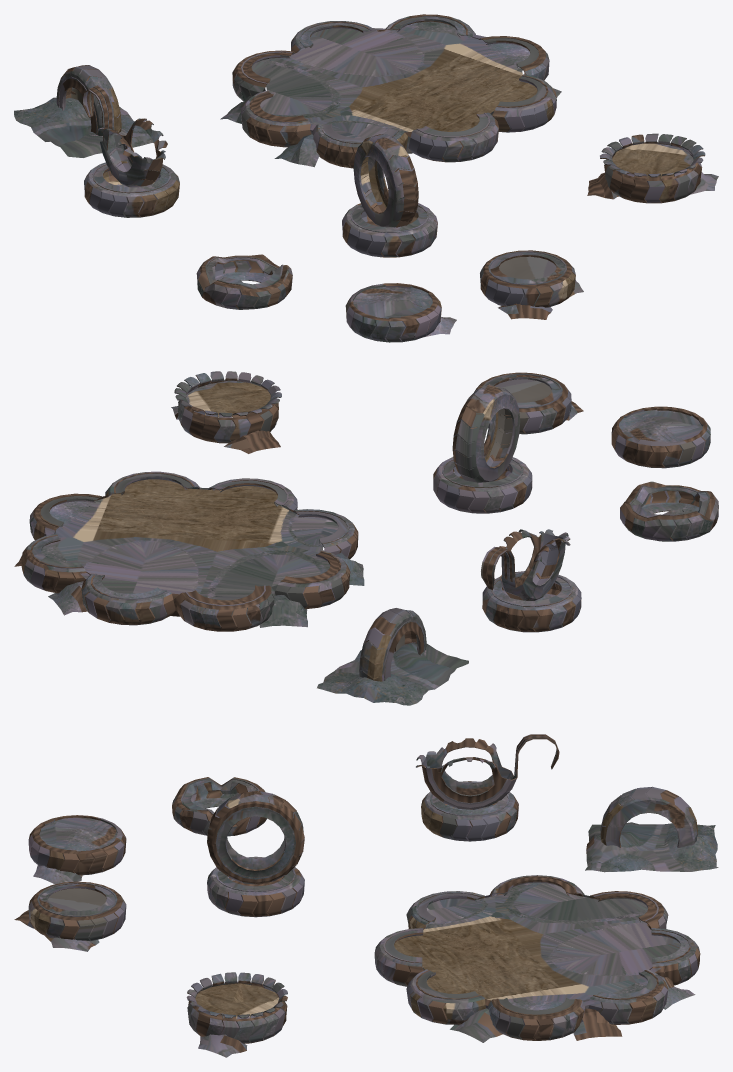
The model's file is КОЛЁСА.fbx.
3 views of the same model, one above another, from view 1: azimuth 30°, elevation 25°; view 2: azimuth 150°, elevation 25°; view 3: azimuth 270°, elevation 25° (orthographic). The views are drawn at different scales.
Parts seen in each view (by area): view 1: Окружность.008, Окружность.007, Окружность.002, Окружность.004, Окружность.003, Окружность.010, Окружность.006, Окружность.001; view 2: Окружность.008, Окружность.007, Окружность.003, Окружность.002, Окружность.004, Окружность.006, Окружность.001, Окружность.010; view 3: Окружность.008, Окружность.007, Окружность.003, Окружность.002, Окружность.004, Окружность.010, Окружность.006, Окружность.001.
Boxes of the visible parts, x1=… form: Окружность.008: x1=220, y1=14, x2=561, y2=168; Окружность.007: x1=342, y1=134, x2=437, y2=257; Окружность.002: x1=82, y1=85, x2=179, y2=217; Окружность.004: x1=587, y1=133, x2=718, y2=203; Окружность.003: x1=14, y1=65, x2=153, y2=157; Окружность.010: x1=480, y1=250, x2=583, y2=319; Окружность.006: x1=345, y1=283, x2=456, y2=342; Окружность.001: x1=196, y1=254, x2=292, y2=309; Окружность.008: x1=14, y1=471, x2=364, y2=631; Окружность.007: x1=433, y1=384, x2=532, y2=513; Окружность.003: x1=317, y1=608, x2=468, y2=705; Окружность.002: x1=481, y1=529, x2=581, y2=632; Окружность.004: x1=171, y1=371, x2=281, y2=453; Окружность.006: x1=611, y1=406, x2=710, y2=468; Окружность.001: x1=620, y1=481, x2=718, y2=541; Окружность.010: x1=474, y1=372, x2=583, y2=434; Окружность.008: x1=374, y1=875, x2=700, y2=1042; Окружность.007: x1=207, y1=791, x2=304, y2=917; Окружность.003: x1=585, y1=786, x2=718, y2=872; Окружность.002: x1=416, y1=734, x2=559, y2=841; Окружность.004: x1=186, y1=972, x2=287, y2=1057; Окружность.010: x1=14, y1=881, x2=126, y2=951; Окружность.006: x1=28, y1=815, x2=126, y2=884; Окружность.001: x1=172, y1=777, x2=266, y2=836.
Bounding box in the file's own units: 1706 × 339 × 1976.
